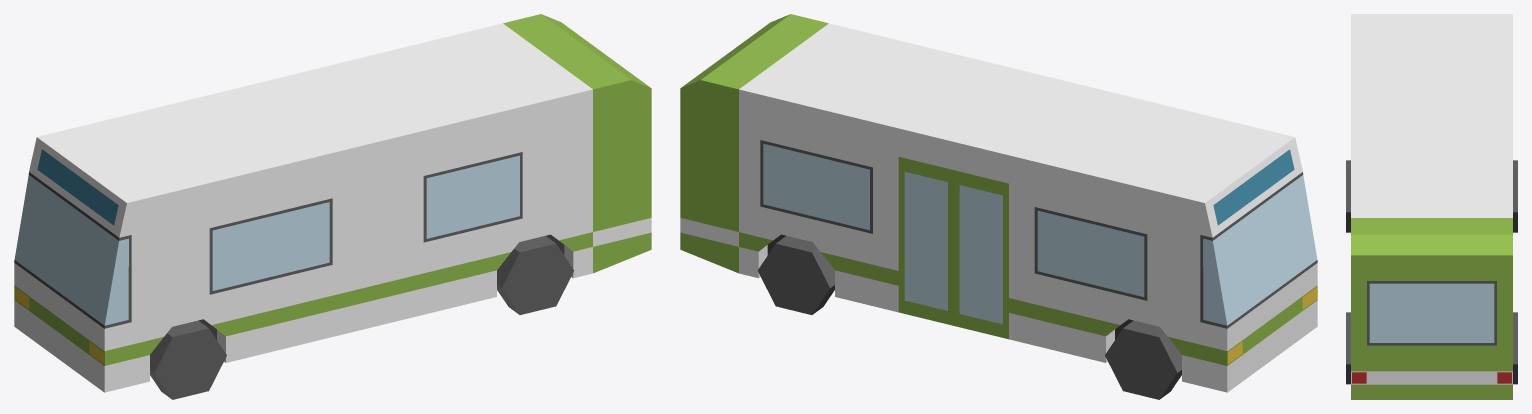
File: Bus_2.fbx
3 renders of one model, left to right at view 1: azimuth 30°, elevation 25°; view 2: azimuth 150°, elevation 25°; view 3: azimuth 270°, elevation 25°, orthographic. The views are drawn at different scales.
Parts seen in each view (by area): view 1: Bus_2; view 2: Bus_2; view 3: Bus_2.
Part boxes in pixels (left/top/right/bottom): Bus_2: left=14, top=14, right=651, bottom=399; Bus_2: left=680, top=14, right=1317, bottom=399; Bus_2: left=1346, top=14, right=1517, bottom=399.
Size of the model in its own units: 11.08 by 3.97 by 3.36.
1 material, 1 textured.
